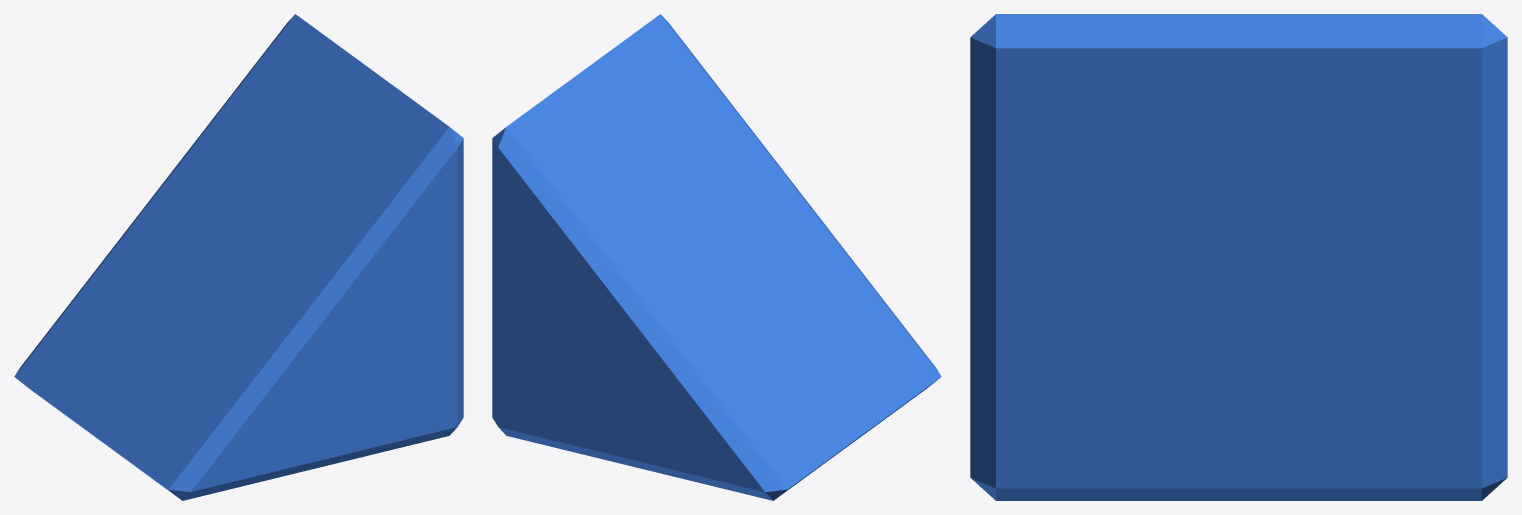
3 views of the same model, side by side, from view 1: azimuth 30°, elevation 25°; view 2: azimuth 150°, elevation 25°; view 3: azimuth 270°, elevation 25° (orthographic). The views are drawn at different scales.
Visible parts, largest first — view 1: Cube; view 2: Cube; view 3: Cube.
Part boxes in pixels (<box>): Cube: <box>14,14,463,500</box>; Cube: <box>492,14,941,500</box>; Cube: <box>970,14,1507,500</box>.
Size of what is drawn, in the model's own units: 2.5 by 2.5 by 2.5.
